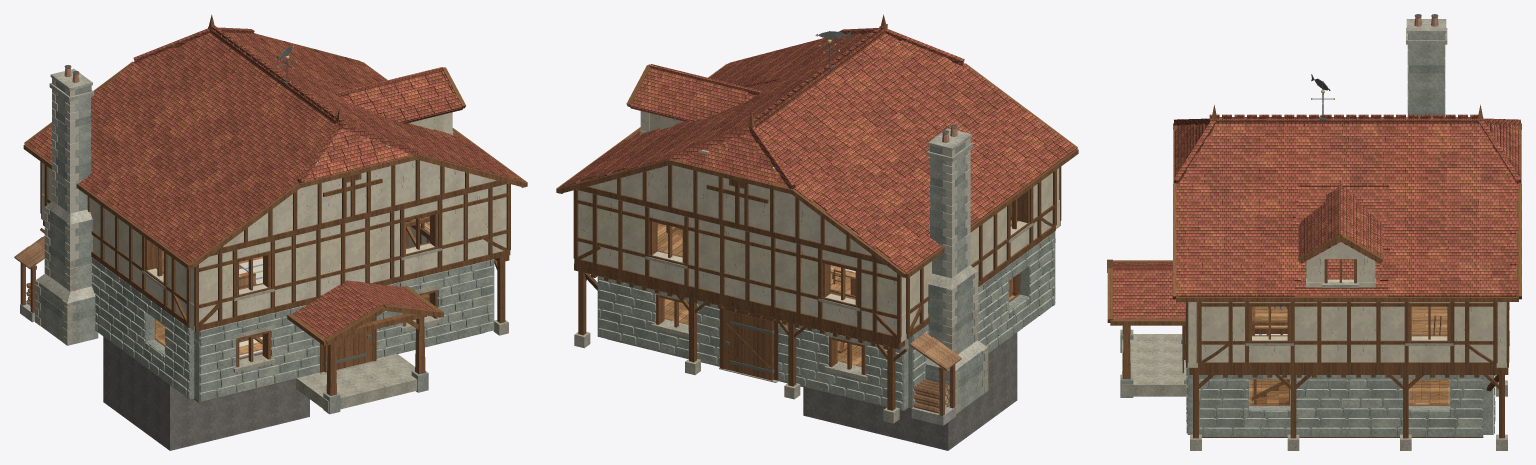
File: holm_guide_house_oldschool_v1.glb
3 renders of one model, left to right at view 1: azimuth 30°, elevation 25°; view 2: azimuth 150°, elevation 25°; view 3: azimuth 270°, elevation 25°, orthographic. The views are drawn at different scales.
Visible parts, largest first — view 1: Roof, GroundShell, UpperShell, CellarShell, UpperFurnishingWalls, Gable, UpperHearth, DoorSouthLeaf, UpperFurnishing; view 2: Roof, GroundShell, UpperShell, UpperFurnishingWalls, Gable, CellarShell, UpperHearth, DoorNorthLeaf, GroundFloor, UpperFloor; view 3: Roof, GroundShell, UpperShell, UpperFurnishingWalls, UpperFloor, GroundFloor, StairFlight.
Part boxes in pixels (x1=…): Roof: x1=23, y1=14, x2=527, y2=345; GroundShell: x1=14, y1=220, x2=509, y2=414; UpperShell: x1=40, y1=135, x2=510, y2=331; CellarShell: x1=103, y1=336, x2=309, y2=450; UpperFurnishingWalls: x1=48, y1=167, x2=500, y2=322; Gable: x1=220, y1=145, x2=496, y2=248; UpperHearth: x1=44, y1=177, x2=92, y2=260; DoorSouthLeaf: x1=323, y1=319, x2=372, y2=372; UpperFurnishing: x1=239, y1=215, x2=429, y2=288; Roof: x1=556, y1=14, x2=1078, y2=278; GroundShell: x1=574, y1=231, x2=1055, y2=425; UpperShell: x1=573, y1=134, x2=1061, y2=342; UpperFurnishingWalls: x1=584, y1=170, x2=1056, y2=333; Gable: x1=589, y1=150, x2=874, y2=257; CellarShell: x1=803, y1=332, x2=1017, y2=450; UpperHearth: x1=928, y1=241, x2=978, y2=327; DoorNorthLeaf: x1=723, y1=309, x2=774, y2=380; GroundFloor: x1=607, y1=295, x2=1014, y2=411; UpperFloor: x1=657, y1=220, x2=1011, y2=298; Roof: x1=1107, y1=14, x2=1521, y2=325; GroundShell: x1=1120, y1=325, x2=1508, y2=450; UpperShell: x1=1185, y1=287, x2=1509, y2=368; UpperFurnishingWalls: x1=1196, y1=302, x2=1497, y2=362; UpperFloor: x1=1255, y1=306, x2=1447, y2=335; GroundFloor: x1=1202, y1=379, x2=1483, y2=437; StairFlight: x1=1252, y1=379, x2=1289, y2=404.
Size of the model in its own units: 14.77 by 13.36 by 14.03.
Materials: 34 (17 with a texture image).
